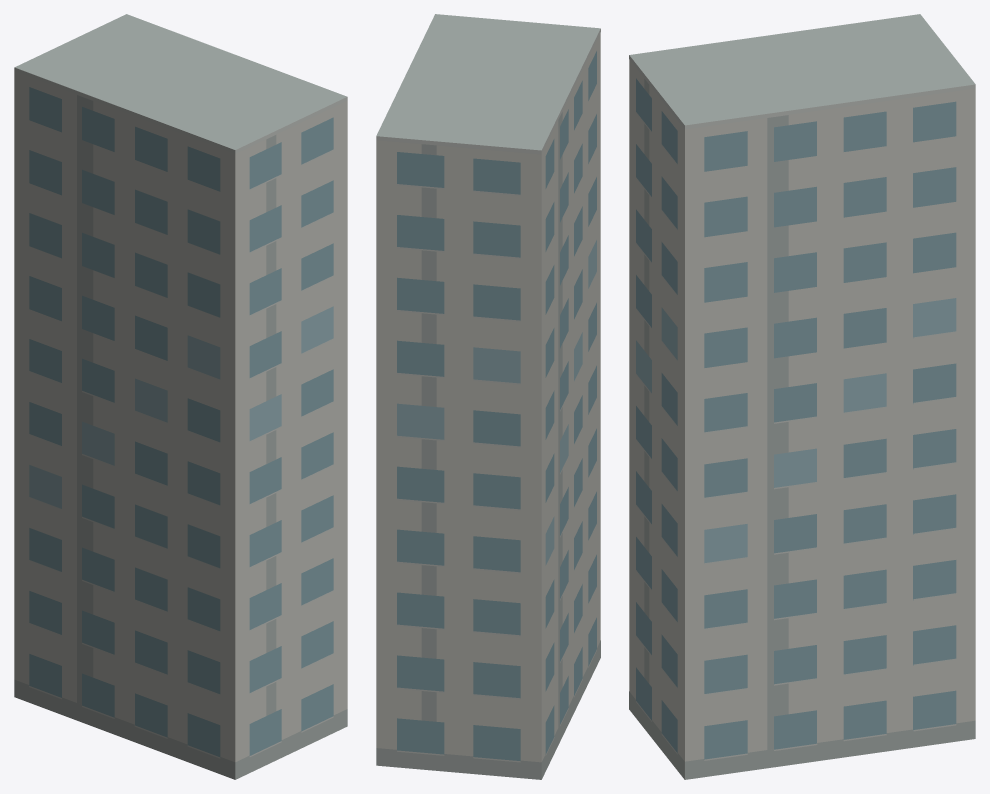
File: residential-a740b2fa-d50d-41d8-942b-67d3a09da7b1.glb
3 views of the same model, side by side, from view 1: azimuth 30°, elevation 25°; view 2: azimuth 150°, elevation 25°; view 3: azimuth 270°, elevation 25° (orthographic). The views are drawn at different scales.
Parts seen in each view (by area): view 1: residential-a740b2fa-d50d-41d8-942b-67d3a09da7b1.tmp; view 2: residential-a740b2fa-d50d-41d8-942b-67d3a09da7b1.tmp; view 3: residential-a740b2fa-d50d-41d8-942b-67d3a09da7b1.tmp.
Boxes of the visible parts, x1,y1,x2,y2 form: residential-a740b2fa-d50d-41d8-942b-67d3a09da7b1.tmp: (14, 14, 347, 779); residential-a740b2fa-d50d-41d8-942b-67d3a09da7b1.tmp: (376, 14, 600, 779); residential-a740b2fa-d50d-41d8-942b-67d3a09da7b1.tmp: (629, 14, 975, 779).
Size of the model in its own units: 13.89 by 38 by 18.25.
